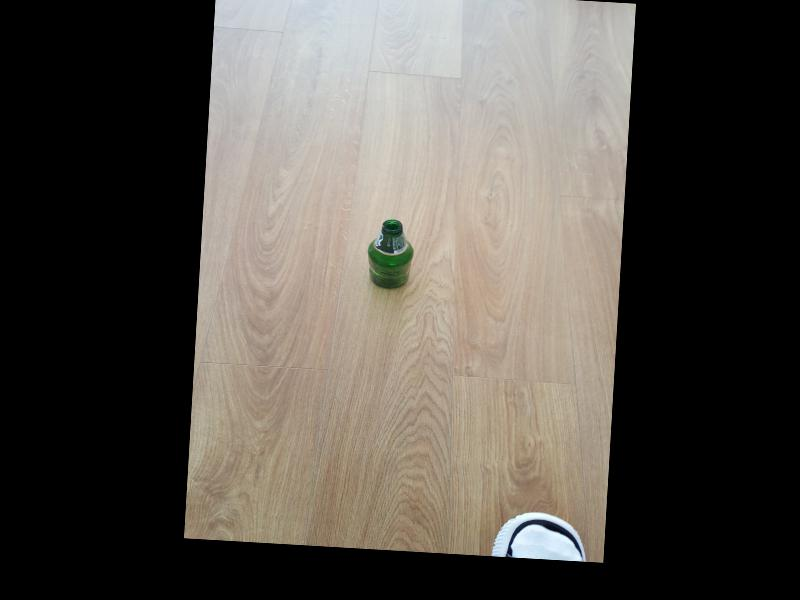Beer: (366, 218, 418, 291)
